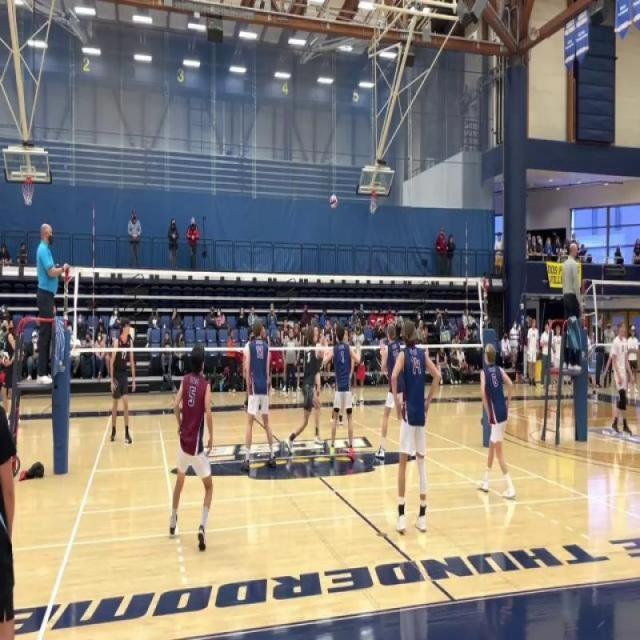volleyball: (328, 193, 339, 210), (1, 350, 10, 366)
